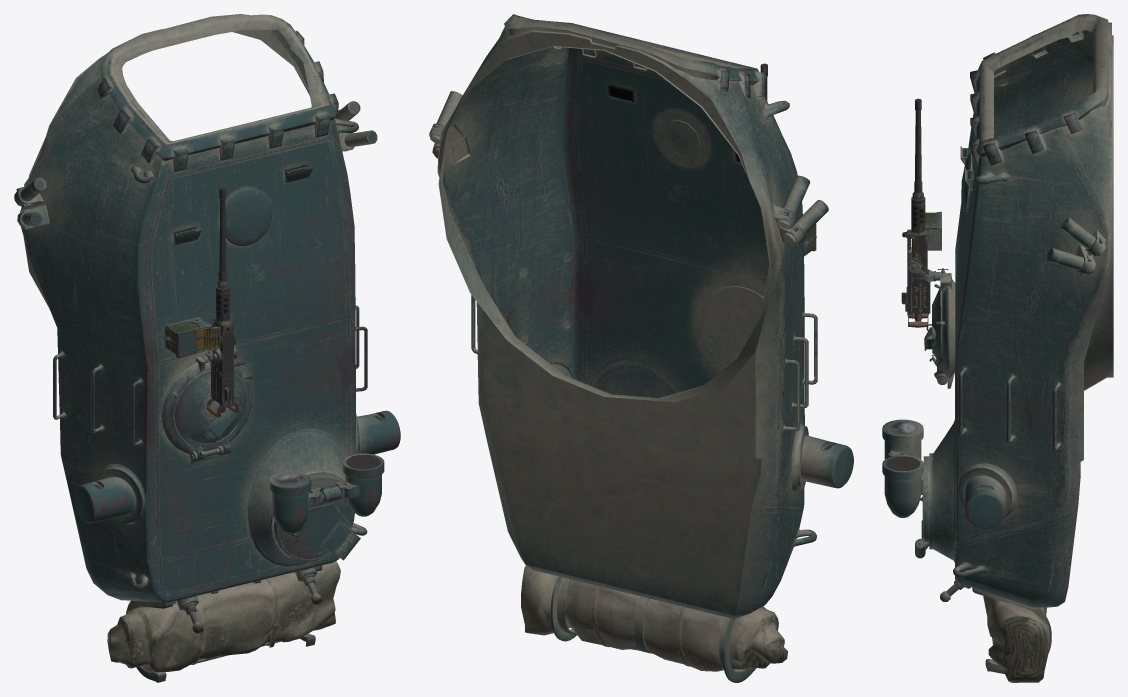
Rendered from Turret_01.glb.
The picture shows the model from 3 angles, left to right: view 1: azimuth 30°, elevation 25°; view 2: azimuth 150°, elevation 25°; view 3: azimuth 270°, elevation 25°; orthographic projection. The views are drawn at different scales.
Visible parts, largest first — view 1: set_0_group_0; view 2: set_0_group_0; view 3: set_0_group_0.
Boxes of the visible parts, <box> form: set_0_group_0: <box>14,14,400,682</box>; set_0_group_0: <box>429,14,853,682</box>; set_0_group_0: <box>882,14,1113,682</box>.
Size of the model in its own units: 3.07 by 5.05 by 1.78.
Materials: 1 (1 with a texture image).
